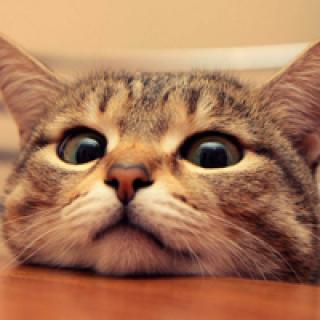cat: (6, 24, 313, 292)
